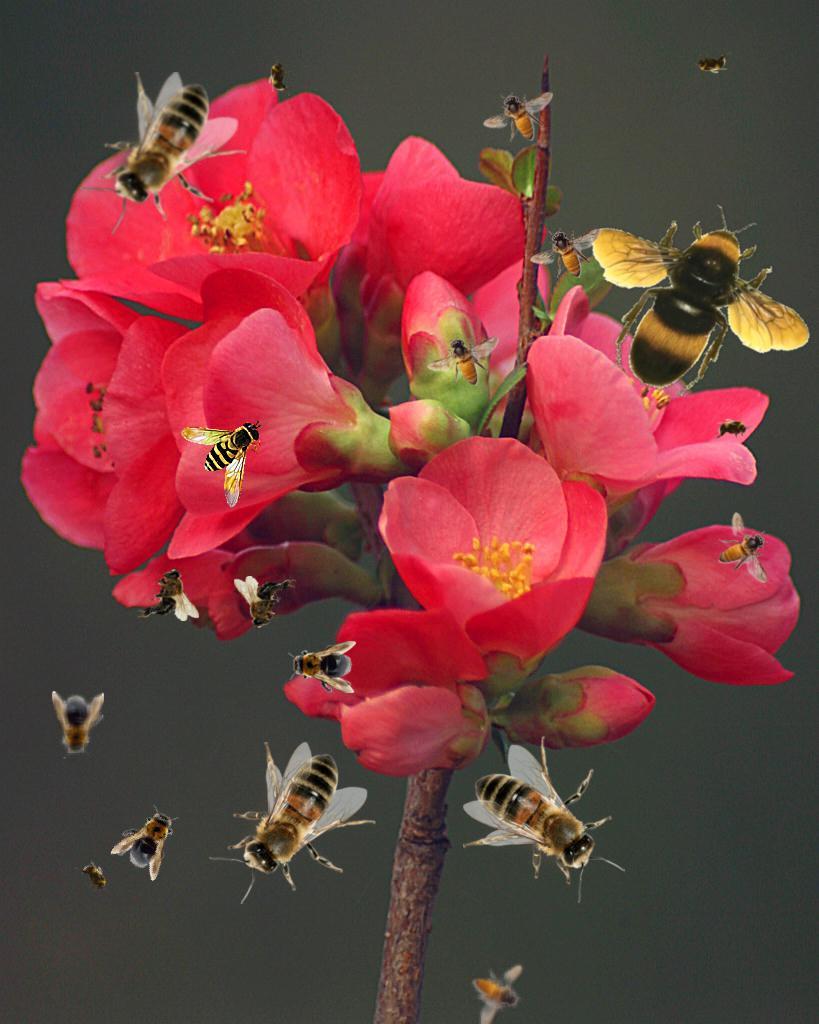Bee: (591, 205, 811, 396), (209, 742, 376, 904), (80, 72, 247, 234), (463, 736, 625, 903), (181, 420, 263, 508), (109, 796, 189, 882), (454, 950, 542, 1024), (482, 90, 554, 143), (427, 334, 499, 387), (718, 512, 768, 583), (530, 228, 601, 278), (288, 641, 356, 693), (52, 691, 104, 759), (137, 568, 199, 621), (234, 576, 296, 629), (74, 855, 116, 901), (691, 52, 731, 74), (268, 56, 290, 96), (713, 418, 753, 440)
